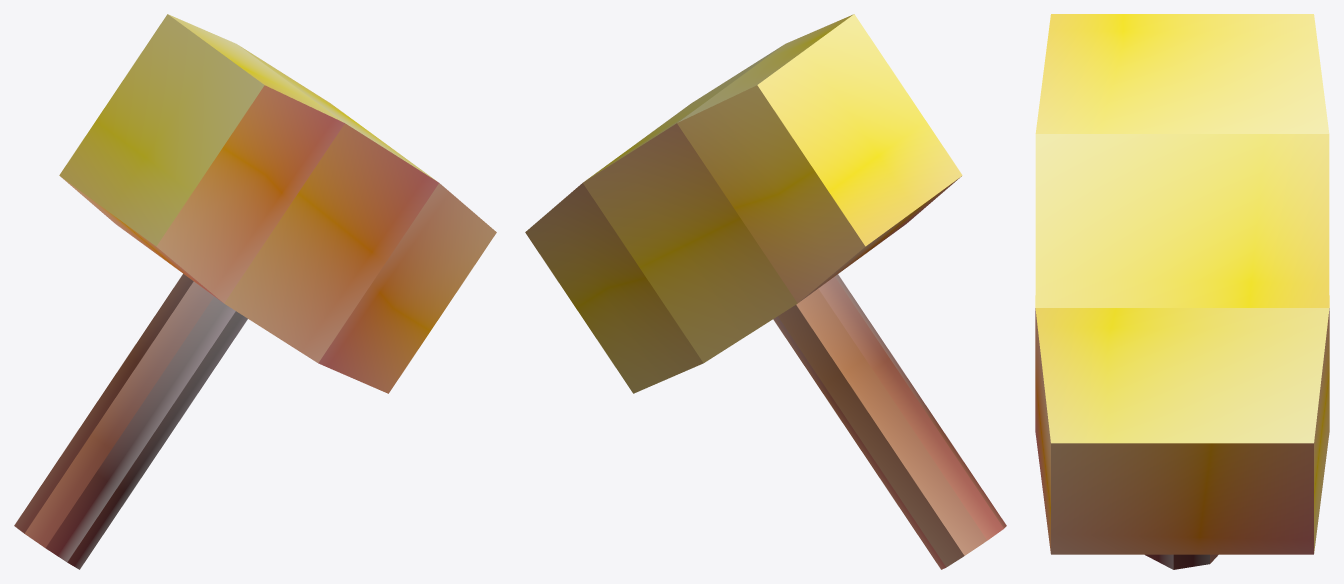
File: hammer02.fbx
3 views of the same model, side by side, from view 1: azimuth 30°, elevation 25°; view 2: azimuth 150°, elevation 25°; view 3: azimuth 270°, elevation 25° (orthographic). The views are drawn at different scales.
Parts seen in each view (by area): view 1: hammer02; view 2: hammer02; view 3: hammer02.
Boxes of the visible parts, <box> form: hammer02: <box>14,14,496,569</box>; hammer02: <box>525,14,1006,569</box>; hammer02: <box>1035,14,1329,569</box>.
Bounding box in the file's own units: 128 × 138 × 56.43.
